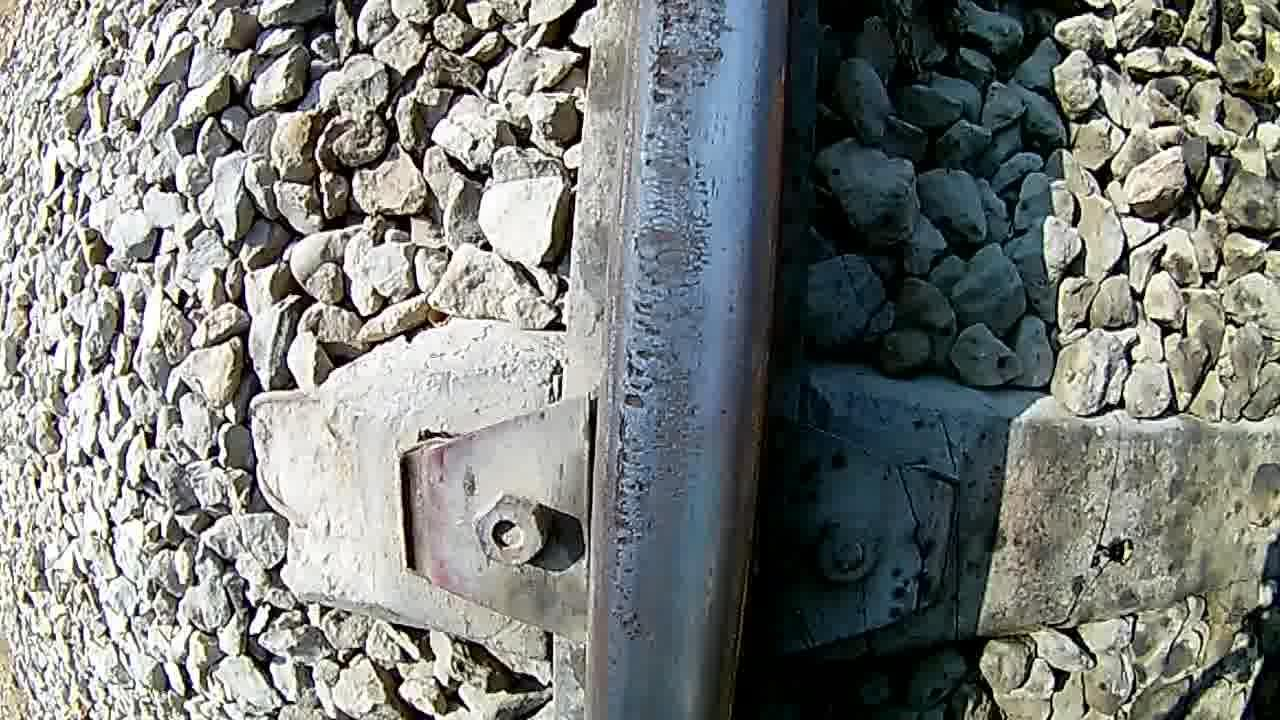crack: (595, 1, 781, 720)
